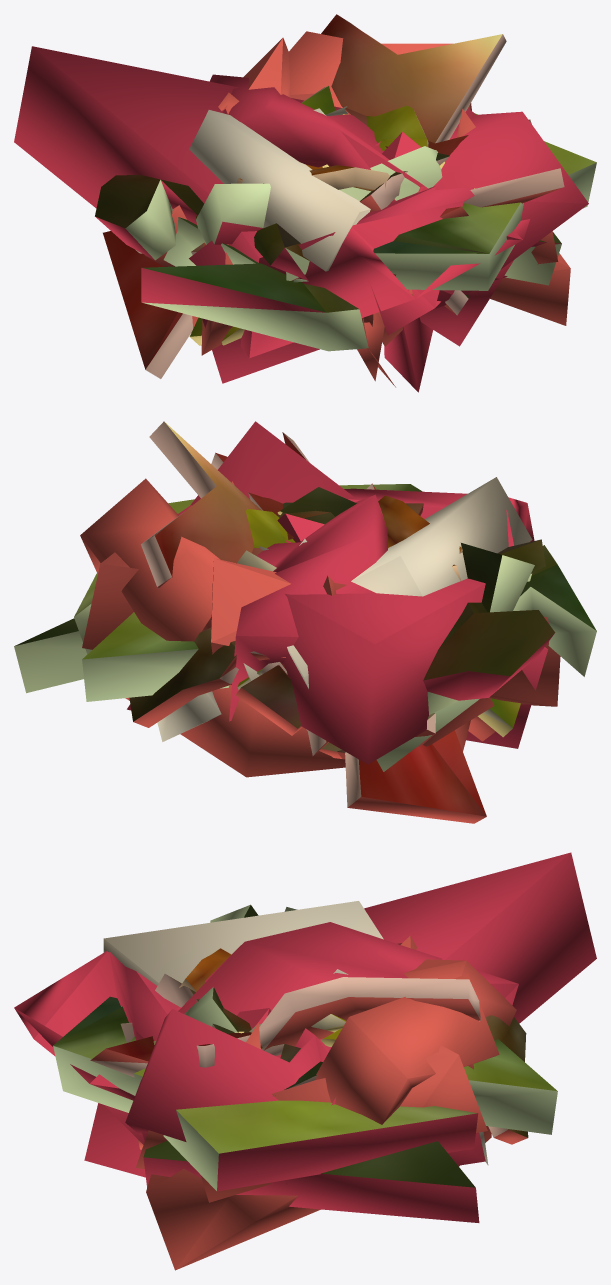
Rendered from fruit-fragments.glb.
The picture shows the model from 3 angles, top to bottom: view 1: azimuth 30°, elevation 25°; view 2: azimuth 150°, elevation 25°; view 3: azimuth 270°, elevation 25°; orthographic projection. The views are drawn at different scales.
Visible parts, largest first — view 1: frag-melon-pulp-1, frag-berry-shell-0, frag-melon-shell-0--corte, frag-melon-pulp-2, frag-bulb-pulp-0, frag-melon-pulp-0, frag-melon-shell-0, frag-berry-pulp-0, frag-melon-shell-1--corte, frag-melon-shell-2--corte, frag-berry-shell-0--corte, frag-berry-pulp-2 (+5 smaller); view 2: frag-melon-pulp-1, frag-berry-shell-0, frag-bulb-pulp-0, frag-melon-pulp-0, frag-berry-pulp-0, frag-berry-pulp-2, frag-melon-shell-0--corte, frag-berry-pulp-1, frag-melon-shell-2, frag-melon-pulp-2, frag-berry-shell-0--corte, frag-melon-shell-2--corte (+10 smaller); view 3: frag-melon-pulp-1, frag-berry-pulp-0, frag-melon-shell-0--corte, frag-melon-pulp-2, frag-melon-shell-0, frag-melon-pulp-0, frag-berry-shell-0--corte, frag-bulb-pulp-0, frag-melon-shell-2--corte, frag-berry-pulp-2, frag-melon-shell-2, frag-melon-shell-1--corte (+5 smaller).
Boxes of the visible parts, left/top/right/bottom form: frag-melon-pulp-1: left=14, top=46, right=530, bottom=392; frag-berry-shell-0: left=103, top=14, right=529, bottom=369; frag-melon-shell-0--corte: left=141, top=162, right=596, bottom=351; frag-melon-pulp-2: left=189, top=108, right=588, bottom=383; frag-bulb-pulp-0: left=189, top=108, right=370, bottom=271; frag-melon-pulp-0: left=209, top=74, right=513, bottom=346; frag-melon-shell-0: left=142, top=113, right=596, bottom=312; frag-berry-pulp-0: left=144, top=31, right=570, bottom=346; frag-melon-shell-1--corte: left=196, top=146, right=442, bottom=244; frag-melon-shell-2--corte: left=96, top=179, right=561, bottom=294; frag-berry-shell-0--corte: left=145, top=16, right=564, bottom=378; frag-berry-pulp-2: left=201, top=37, right=558, bottom=387; frag-melon-pulp-1: left=277, top=488, right=534, bottom=764; frag-berry-shell-0: left=155, top=422, right=486, bottom=816; frag-bulb-pulp-0: left=157, top=477, right=532, bottom=741; frag-melon-pulp-0: left=229, top=494, right=387, bottom=721; frag-berry-pulp-0: left=80, top=478, right=480, bottom=699; frag-berry-pulp-2: left=82, top=552, right=560, bottom=706; frag-melon-shell-0--corte: left=74, top=587, right=596, bottom=771; frag-berry-pulp-1: left=125, top=481, right=494, bottom=777; frag-melon-shell-2: left=15, top=539, right=554, bottom=680; frag-melon-pulp-2: left=127, top=421, right=549, bottom=748; frag-berry-shell-0--corte: left=141, top=421, right=495, bottom=823; frag-melon-shell-2--corte: left=14, top=573, right=554, bottom=714; frag-melon-pulp-1: left=14, top=852, right=596, bottom=1177; frag-berry-pulp-0: left=146, top=973, right=499, bottom=1270; frag-melon-shell-0--corte: left=53, top=1045, right=557, bottom=1191; frag-melon-pulp-2: left=125, top=1009, right=485, bottom=1184; frag-melon-shell-0: left=53, top=996, right=557, bottom=1153; frag-melon-pulp-0: left=104, top=922, right=518, bottom=1144; frag-berry-shell-0--corte: left=90, top=977, right=480, bottom=1077; frag-bulb-pulp-0: left=103, top=901, right=488, bottom=1165; frag-melon-shell-2--corte: left=143, top=907, right=479, bottom=1222; frag-berry-pulp-2: left=136, top=935, right=516, bottom=1202; frag-melon-shell-2: left=143, top=1140, right=475, bottom=1187; frag-melon-shell-1--corte: left=184, top=905, right=250, bottom=1032.
Size of the model in its own units: 0.3762 by 0.2289 by 0.4014.
Materials: 13 (5 with a texture image).
